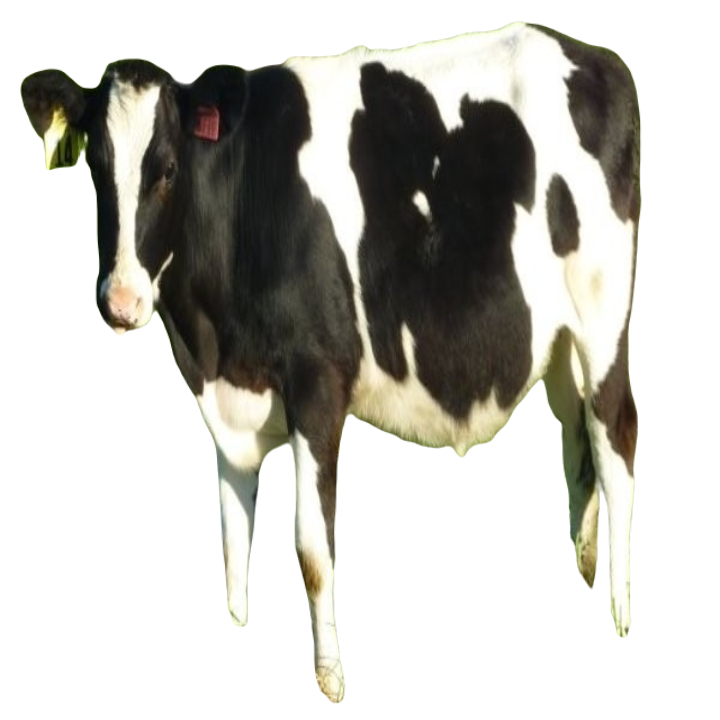Cow: (18, 24, 670, 706)
